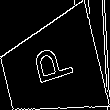P_W: (26, 43, 77, 93)
